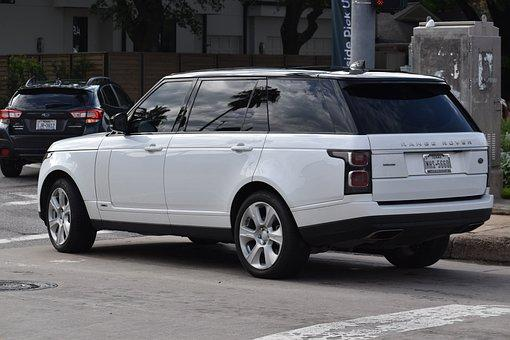range rover: (392, 136, 483, 155)
